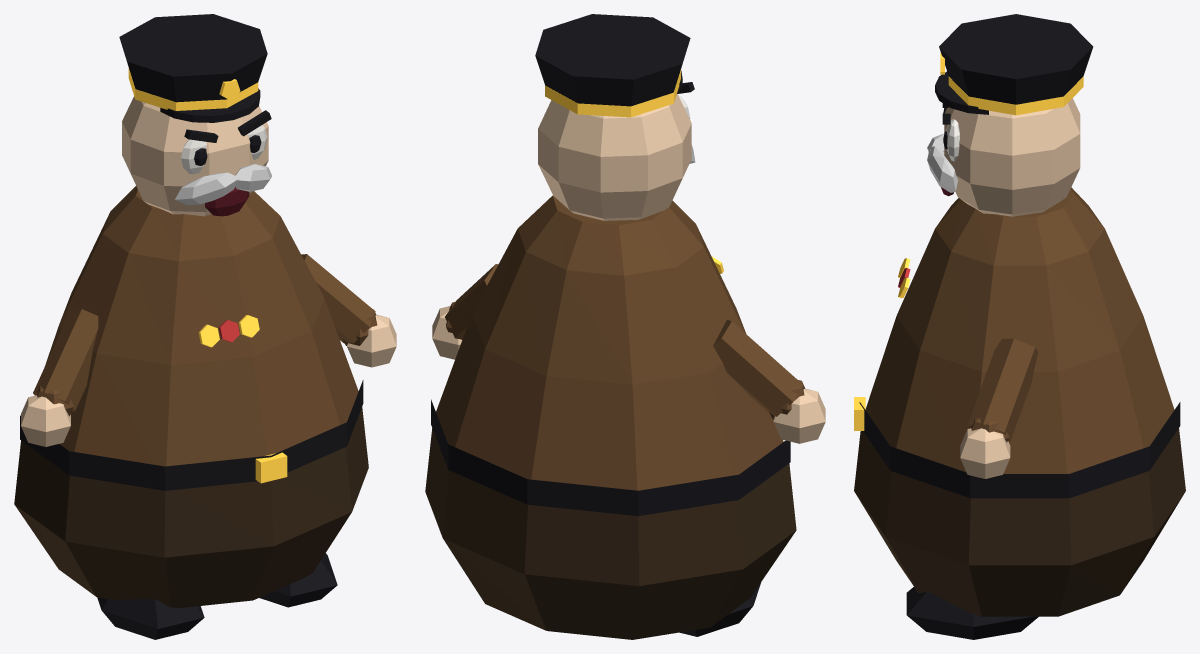
Rendered from npc_comisario.glb.
3 renders of one model, left to right at view 1: azimuth 30°, elevation 25°; view 2: azimuth 150°, elevation 25°; view 3: azimuth 270°, elevation 25°, orthographic. The views are drawn at different scales.
Visible parts, largest first — view 1: body_comisario_coat, body_comisario_pants, cap_black, head_skin_crema, body_black, arms_comisario_coat, legs_black, arms_skin_crema, face_gray, cap_gold, body_gold, face_black (+2 smaller); view 2: body_comisario_coat, body_comisario_pants, head_skin_crema, cap_black, body_black, arms_comisario_coat, arms_skin_crema, cap_gold, legs_black; view 3: body_comisario_coat, body_comisario_pants, head_skin_crema, cap_black, body_black, arms_comisario_coat, legs_black, arms_skin_crema, cap_gold, face_gray, body_gold, face_white.
Part boxes in pixels (x1,y1,x2,y2): body_comisario_coat: (45, 186, 358, 466); body_comisario_pants: (14, 407, 368, 607); cap_black: (119, 14, 267, 122); head_skin_crema: (122, 96, 268, 216); body_black: (20, 380, 363, 490); arms_comisario_coat: (33, 254, 377, 416); legs_black: (97, 553, 337, 639); arms_skin_crema: (21, 314, 396, 446); face_gray: (175, 164, 271, 205); cap_gold: (128, 68, 258, 110); body_gold: (198, 315, 287, 483); face_black: (184, 110, 271, 165); body_comisario_coat: (436, 195, 783, 490); body_comisario_pants: (425, 428, 796, 639); head_skin_crema: (538, 94, 691, 220); cap_black: (535, 14, 690, 106); body_black: (431, 399, 790, 516); arms_comisario_coat: (445, 264, 805, 418); arms_skin_crema: (432, 306, 825, 443); cap_gold: (545, 70, 680, 117); legs_black: (679, 582, 761, 636); body_comisario_coat: (865, 187, 1174, 473); body_comisario_pants: (854, 428, 1185, 616); head_skin_crema: (944, 98, 1080, 216); cap_black: (935, 14, 1093, 114); body_black: (859, 402, 1180, 498); arms_comisario_coat: (968, 338, 1038, 442); legs_black: (906, 587, 1038, 639); arms_skin_crema: (960, 428, 1010, 478); cap_gold: (940, 52, 1083, 115); face_gray: (927, 133, 958, 192); body_gold: (854, 258, 910, 430); face_white: (946, 119, 959, 161).
Size of the model in its own units: 1.13 by 1.58 by 0.86.
